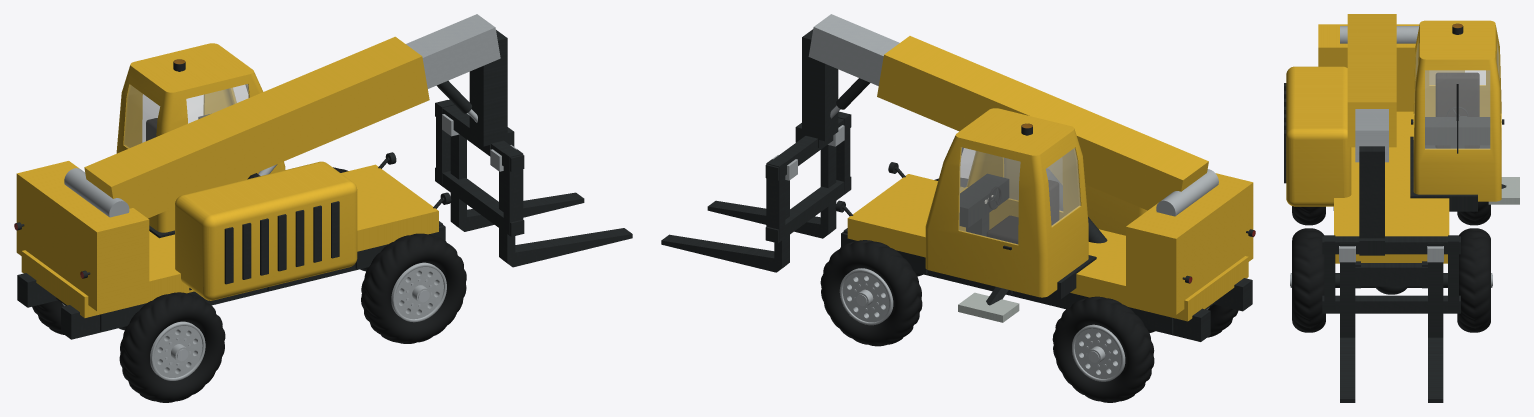
Rendered from telehandler.glb.
The picture shows the model from 3 angles, left to right: view 1: azimuth 30°, elevation 25°; view 2: azimuth 150°, elevation 25°; view 3: azimuth 270°, elevation 25°; orthographic projection. The views are drawn at different scales.
Visible parts, largest first — view 1: Telehandler main telescopic housing, Telehandler shaped engine cover, Telehandler rear counterweight, Telehandler left cab hollow rounded shell with actual apertu, Telehandler lower body deck, Telehandler axle 0 wheel -1 rounded tyre carcass, Telehandler axle 1 wheel -1 rounded tyre carcass, Telehandler exposed inner boom, Telehandler end head vertical linkage, Telehandler forged L fork -1, Telehandler forged L fork 1, Telehandler chassis boxed rail -470 (+18 smaller); view 2: Telehandler left cab hollow rounded shell with actual apertu, Telehandler main telescopic housing, Telehandler rear counterweight, Telehandler lower body deck, Telehandler axle 1 wheel 1 rounded tyre carcass, Telehandler axle 0 wheel 1 rounded tyre carcass, Telehandler left cab fitted left window, Telehandler exposed inner boom, Telehandler end head vertical linkage, Telehandler forged L fork 1, Telehandler chassis boxed rail 470, Telehandler shaped engine cover (+18 smaller); view 3: Telehandler left cab hollow rounded shell with actual apertu, Telehandler shaped engine cover, Telehandler lower body deck, Telehandler main telescopic housing, Telehandler left cab fitted windscreen, Telehandler axle 1 wheel -1 rounded tyre carcass, Telehandler axle 1 wheel 1 rounded tyre carcass, Telehandler rear counterweight, Telehandler end head vertical linkage, Telehandler forged L fork 1, Telehandler forged L fork -1, Telehandler left cab padded seat back (+17 smaller).
Part boxes in pixels (bbox=[...]): Telehandler main telescopic housing: bbox=[84, 36, 429, 218]; Telehandler shaped engine cover: bbox=[175, 161, 357, 300]; Telehandler rear counterweight: bbox=[16, 161, 149, 311]; Telehandler left cab hollow rounded shell with actual apertu: bbox=[116, 43, 285, 232]; Telehandler lower body deck: bbox=[21, 164, 438, 317]; Telehandler axle 0 wheel -1 rounded tyre carcass: bbox=[119, 292, 225, 402]; Telehandler axle 1 wheel -1 rounded tyre carcass: bbox=[361, 233, 466, 343]; Telehandler exposed inner boom: bbox=[406, 14, 500, 88]; Telehandler end head vertical linkage: bbox=[469, 30, 507, 146]; Telehandler forged L fork -1: bbox=[499, 171, 632, 267]; Telehandler forged L fork 1: bbox=[450, 134, 584, 231]; Telehandler chassis boxed rail -470: bbox=[61, 221, 442, 339]; Telehandler left cab hollow rounded shell with actual apertu: bbox=[925, 108, 1088, 297]; Telehandler main telescopic housing: bbox=[877, 36, 1208, 210]; Telehandler rear counterweight: bbox=[1126, 173, 1253, 314]; Telehandler lower body deck: bbox=[847, 174, 1248, 321]; Telehandler axle 1 wheel 1 rounded tyre carcass: bbox=[820, 240, 922, 346]; Telehandler axle 0 wheel 1 rounded tyre carcass: bbox=[1052, 296, 1154, 402]; Telehandler left cab fitted left window: bbox=[959, 147, 1020, 244]; Telehandler exposed inner boom: bbox=[808, 14, 899, 85]; Telehandler end head vertical linkage: bbox=[802, 29, 838, 141]; Telehandler forged L fork 1: bbox=[661, 180, 789, 272]; Telehandler chassis boxed rail 470: bbox=[843, 228, 1210, 341]; Telehandler shaped engine cover: bbox=[1004, 158, 1147, 235]; Telehandler left cab hollow rounded shell with actual apertu: bbox=[1413, 20, 1501, 201]; Telehandler shaped engine cover: bbox=[1286, 66, 1351, 206]; Telehandler lower body deck: bbox=[1334, 111, 1449, 263]; Telehandler main telescopic housing: bbox=[1347, 14, 1396, 147]; Telehandler left cab fitted windscreen: bbox=[1425, 70, 1489, 149]; Telehandler axle 1 wheel -1 rounded tyre carcass: bbox=[1292, 228, 1325, 332]; Telehandler axle 1 wheel 1 rounded tyre carcass: bbox=[1457, 228, 1490, 332]; Telehandler rear counterweight: bbox=[1318, 24, 1464, 111]; Telehandler end head vertical linkage: bbox=[1359, 146, 1384, 238]; Telehandler forged L fork 1: bbox=[1428, 243, 1443, 402]; Telehandler forged L fork -1: bbox=[1340, 243, 1355, 402]; Telehandler left cab padded seat back: bbox=[1435, 72, 1479, 116].
Size of the model in its own units: 6.96 by 3.19 by 2.79.
Materials: 13 (13 with a texture image).
